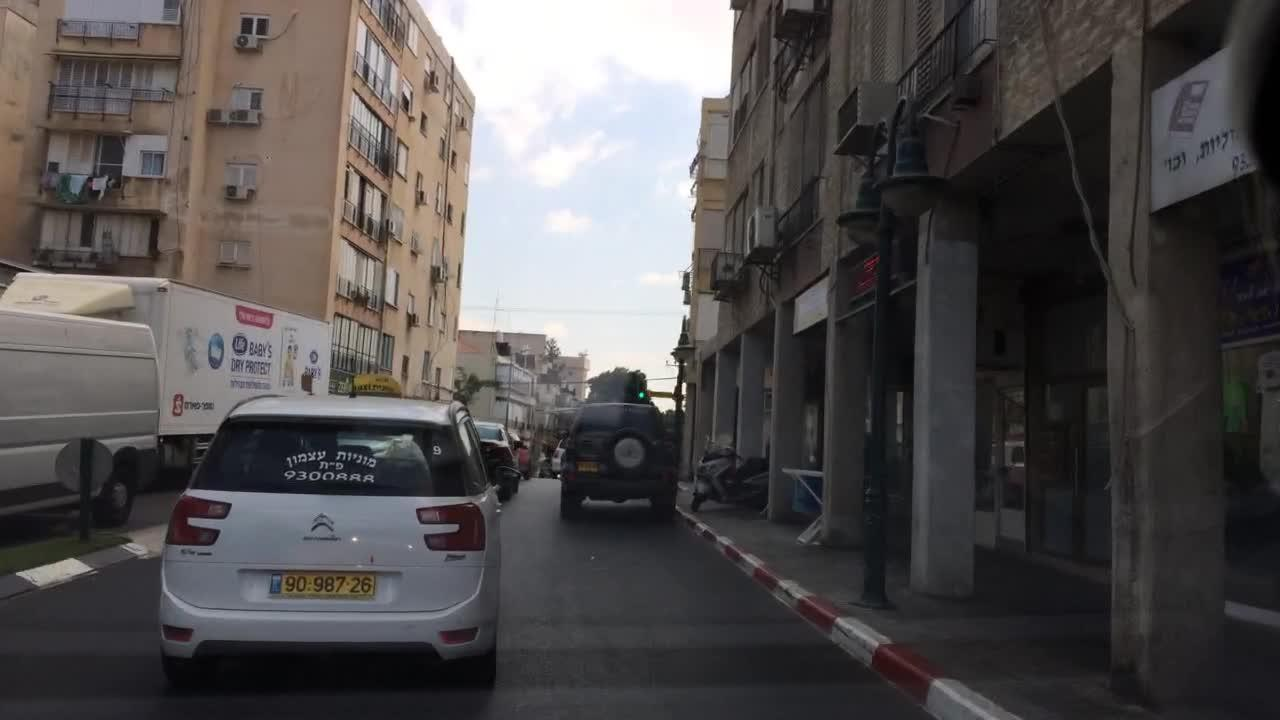Citroen: (308, 506, 337, 537)
